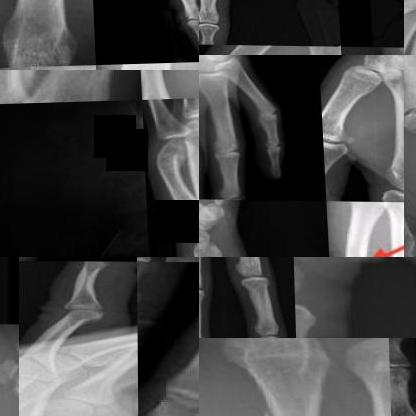fracture: (250, 393, 343, 415), (0, 70, 52, 104), (146, 144, 191, 182), (72, 261, 116, 269), (199, 38, 217, 44)
